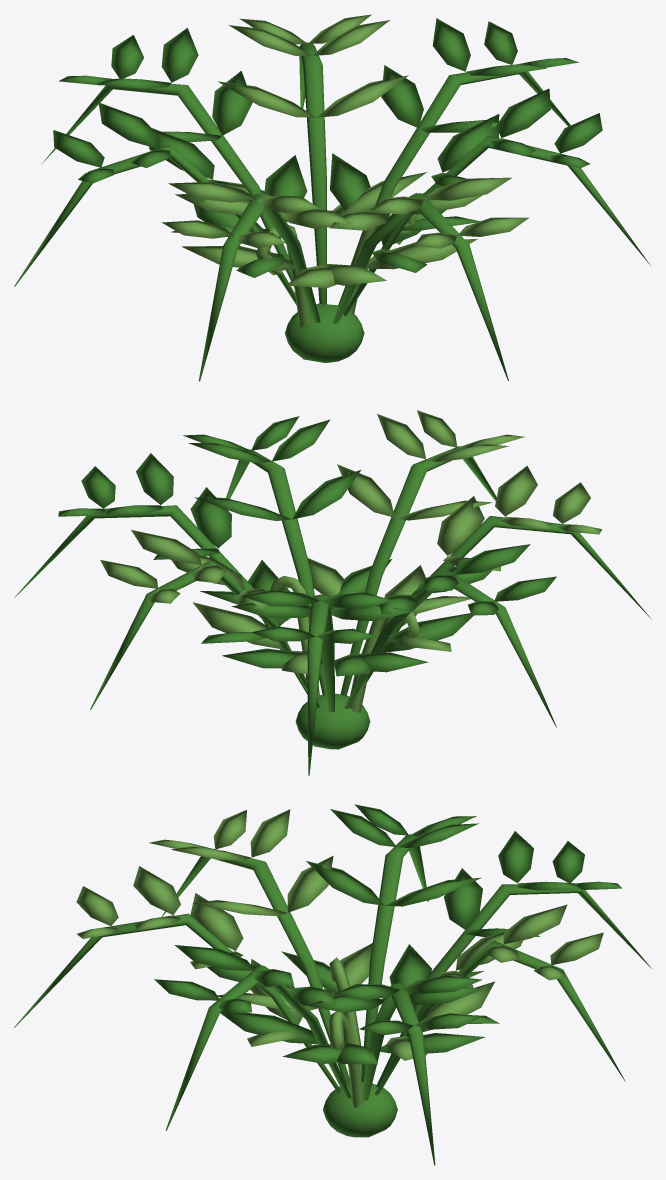
File: org_fern.glb
The picture shows the model from 3 angles, top to bottom: view 1: azimuth 30°, elevation 25°; view 2: azimuth 150°, elevation 25°; view 3: azimuth 270°, elevation 25°; orthographic projection. The views are drawn at different scales.
Visible parts, largest first — view 1: Foliage; view 2: Foliage; view 3: Foliage.
Boxes of the visible parts, x1=… form: Foliage: x1=14, y1=14, x2=650, y2=381; Foliage: x1=14, y1=410, x2=651, y2=775; Foliage: x1=14, y1=804, x2=651, y2=1165.
Size of the model in its own units: 1.45 by 0.6 by 1.48.
